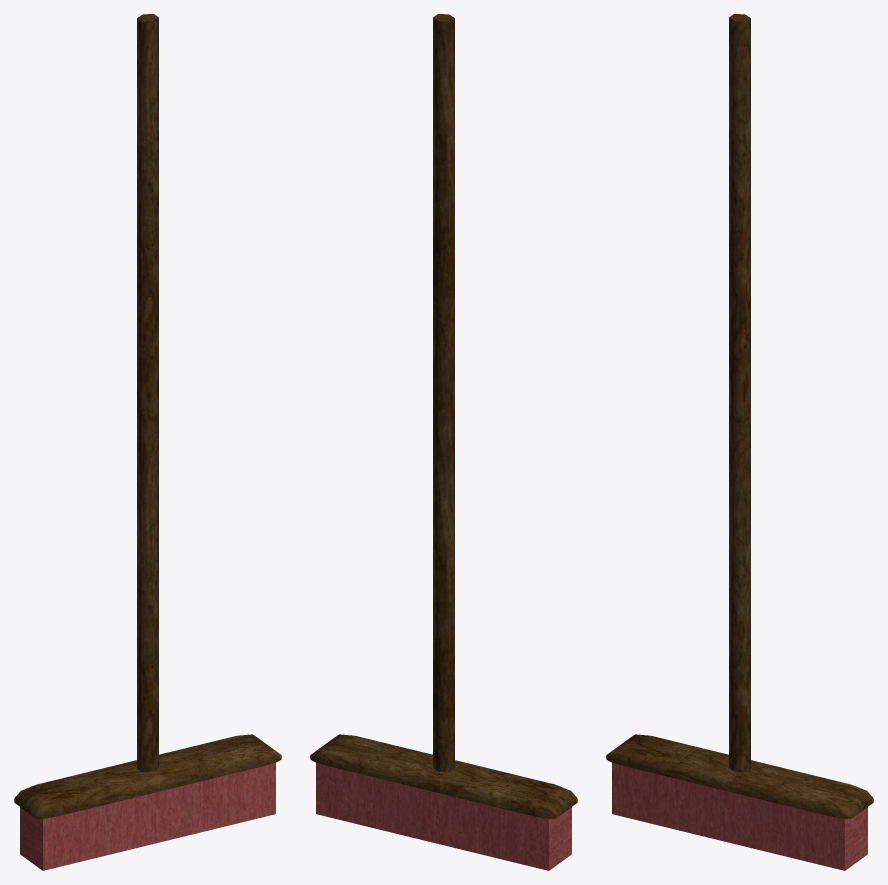
File: broom Nr2.fbx
3 views of the same model, side by side, from view 1: azimuth 30°, elevation 25°; view 2: azimuth 150°, elevation 25°; view 3: azimuth 330°, elevation 25° (orthographic).
Parts seen in each view (by area): view 1: model; view 2: model; view 3: model.
Boxes of the visible parts, bbox=[...] form: model: bbox=[14, 14, 281, 870]; model: bbox=[310, 14, 577, 870]; model: bbox=[606, 14, 873, 870].
Size of the model in its own units: 41 by 130 by 8.
